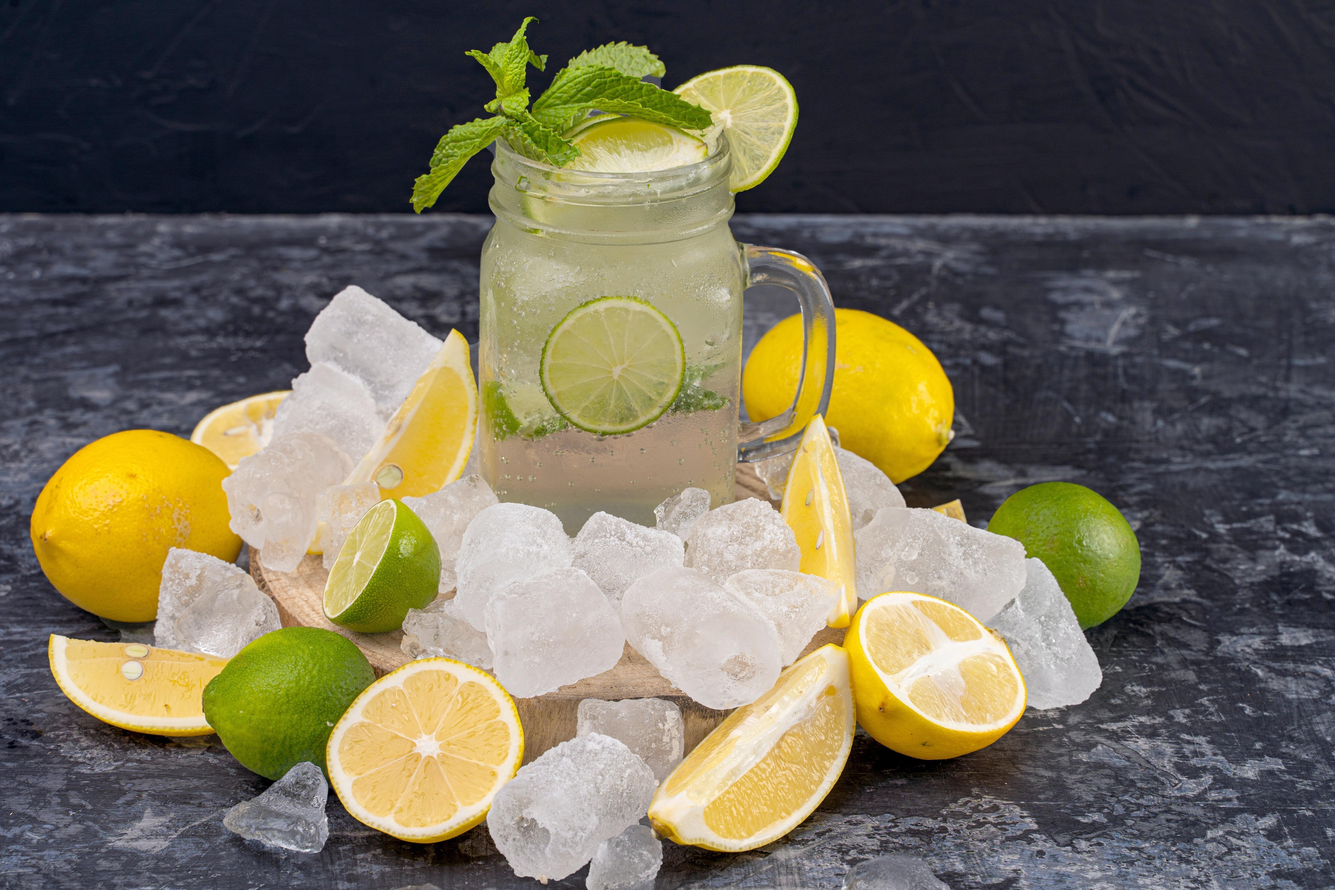glass-mug: (469, 87, 840, 538)
